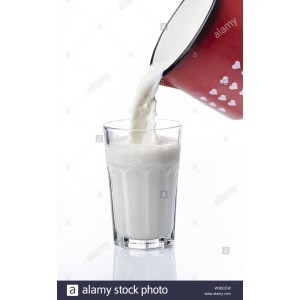milk_brain food: (112, 140, 183, 254)
